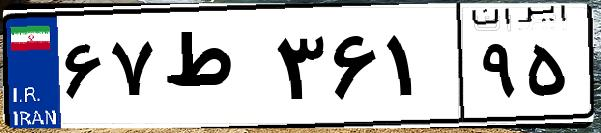1: (385, 28, 445, 110)
3: (270, 28, 330, 110)
5: (525, 38, 570, 115)
6: (330, 28, 385, 110), (57, 26, 110, 100)
7: (110, 28, 158, 98)
9: (475, 38, 525, 113)
ط: (158, 20, 270, 120)
